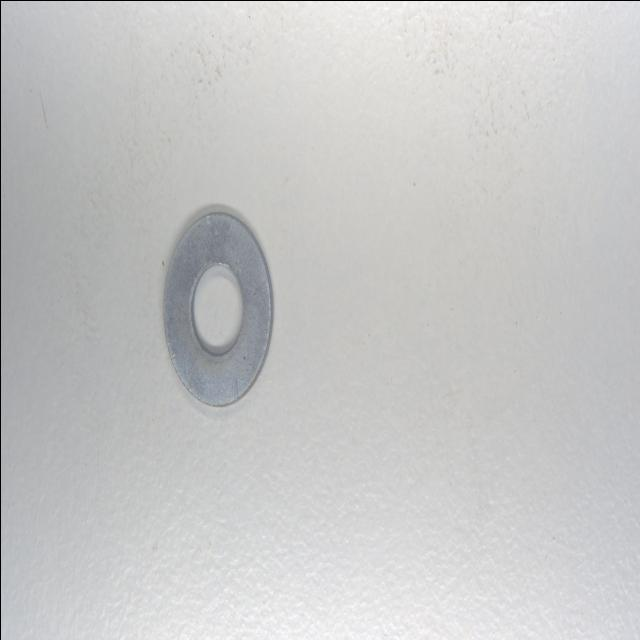washer: (159, 208, 273, 410)
